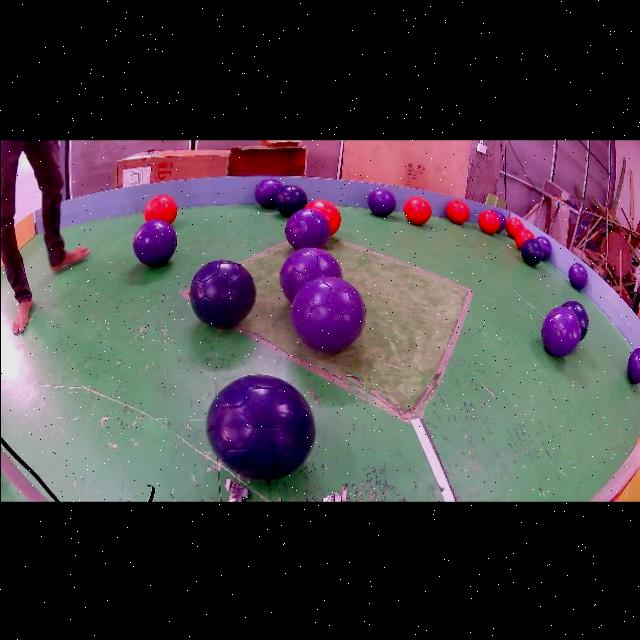B: (206, 375, 314, 479), (188, 260, 255, 327), (273, 183, 307, 216), (561, 300, 587, 341), (519, 237, 542, 265)
P: (290, 275, 366, 352), (278, 246, 342, 302), (132, 219, 176, 266), (541, 307, 580, 356), (284, 209, 331, 249), (366, 188, 395, 216), (254, 178, 282, 207), (567, 263, 587, 289), (626, 347, 640, 383), (534, 235, 551, 259), (492, 210, 505, 232)
R: (304, 198, 339, 235), (143, 193, 177, 224), (402, 196, 431, 224), (445, 198, 469, 222), (478, 210, 499, 232), (514, 227, 534, 249), (504, 216, 523, 237)
